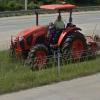Tractor: (8, 2, 90, 68)
